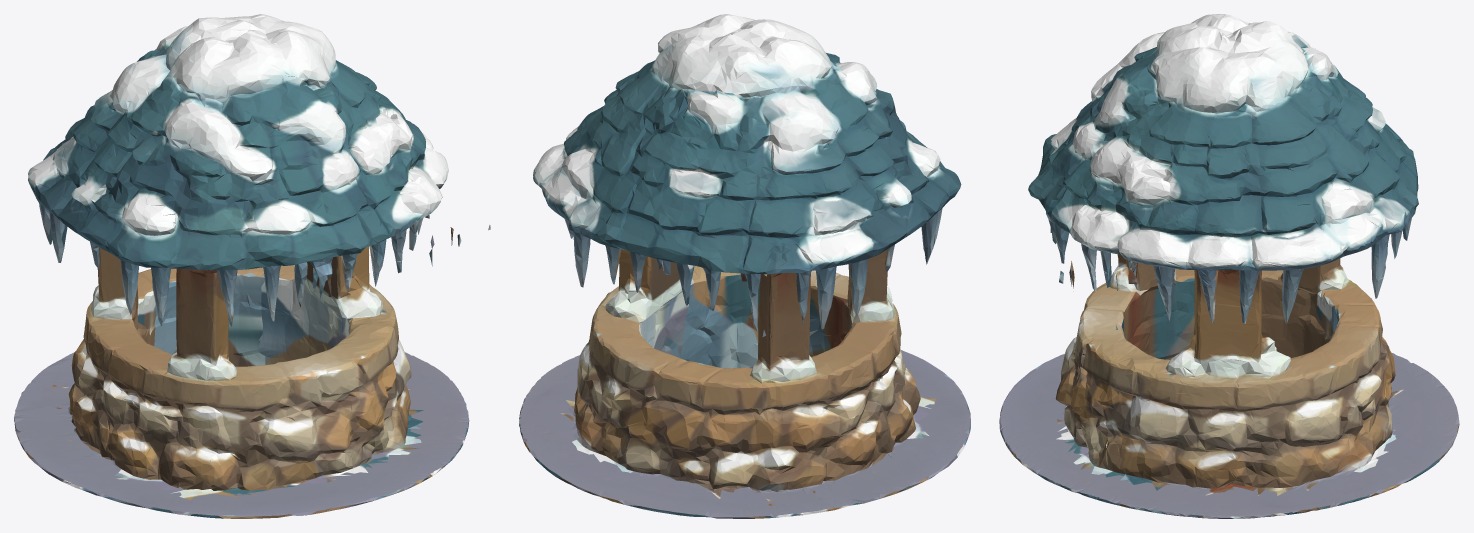
Rendered from frozenwell_painted.glb.
3 renders of one model, left to right at view 1: azimuth 30°, elevation 25°; view 2: azimuth 150°, elevation 25°; view 3: azimuth 270°, elevation 25°, orthographic.
Parts seen in each view (by area): view 1: geometry_0; view 2: geometry_0; view 3: geometry_0.
Part boxes in pixels (left/top/right/bottom): geometry_0: left=14, top=14, right=490, bottom=518; geometry_0: left=519, top=14, right=970, bottom=518; geometry_0: left=999, top=14, right=1459, bottom=518.
Bounding box in the file's own units: 1.99 × 1.88 × 2.
Materials: 1 (1 with a texture image).
